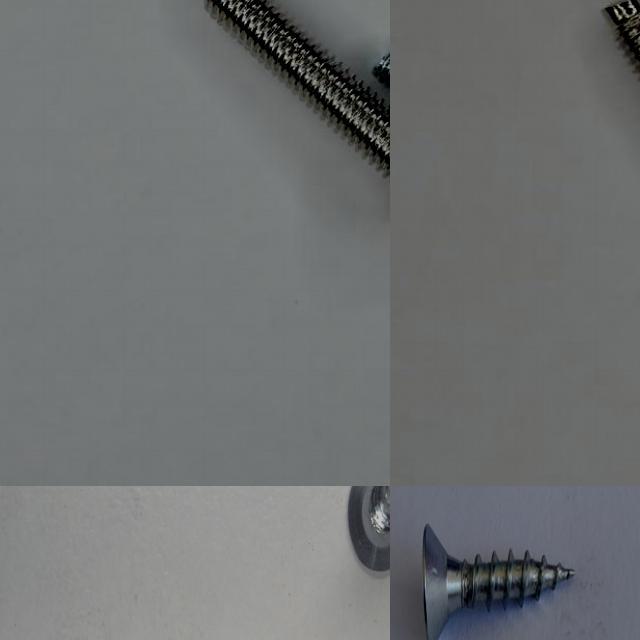Screw: (206, 0, 390, 178), (422, 523, 574, 640), (344, 486, 390, 575)
